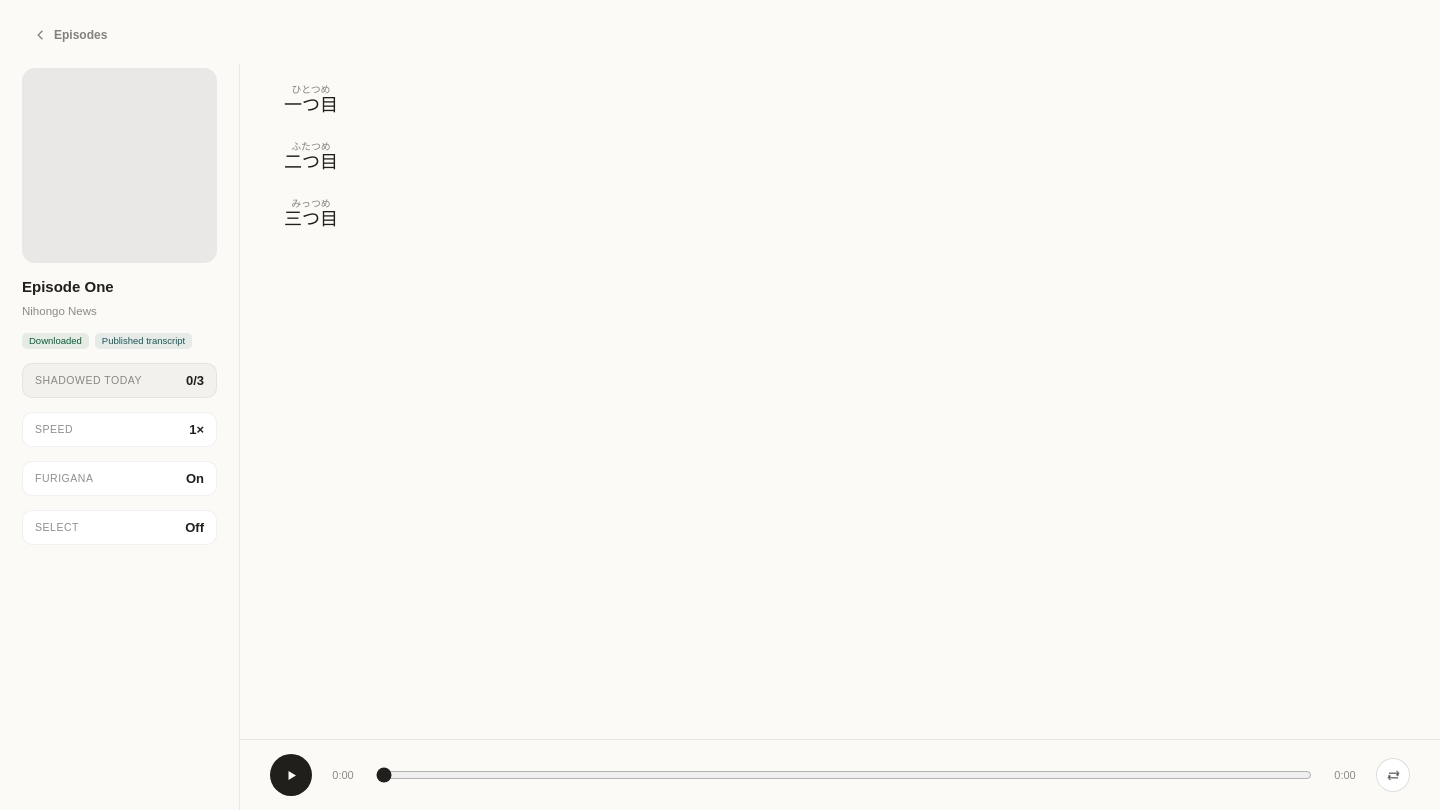
Test case: Player › dismisses the definition popover on close-button click
The width and height of the screenshot is (1440, 810).
Expected: the element with test id "sentence-0" is shown, left=284, top=84, right=338, bottom=115
What coordinates should you click on to do the following:
click the text with test id "word" showing "一つ目"
I would click on:
 (311, 105)
Its box is left=284, top=95, right=338, bottom=115.
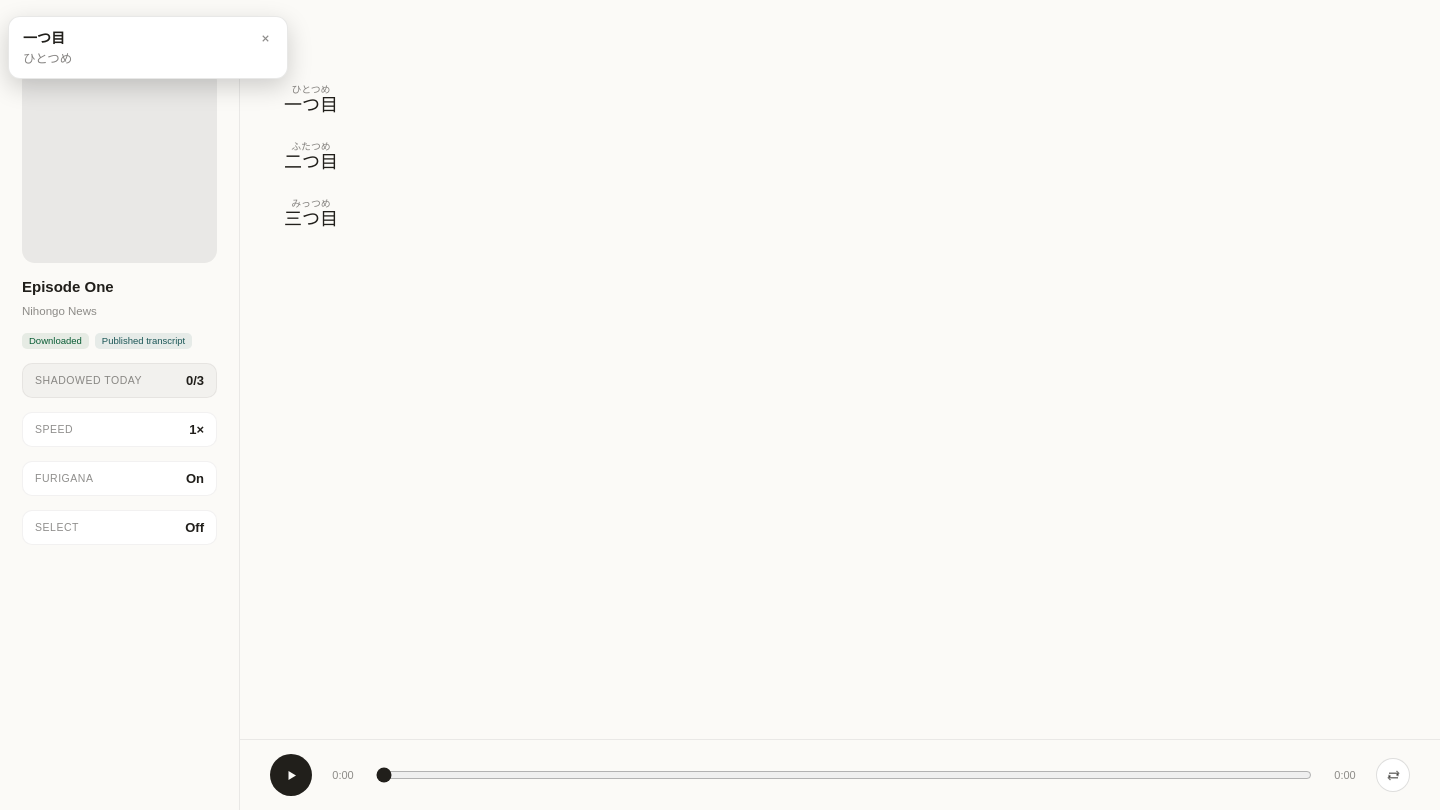
Result: the element with test id "definition-popover" is shown at left=8, top=16, right=288, bottom=79
What coordinates should you click on to do the following:
click the button with test id "definition-popover-close"
I would click on:
 (266, 38)
Its box is left=258, top=31, right=273, bottom=46.
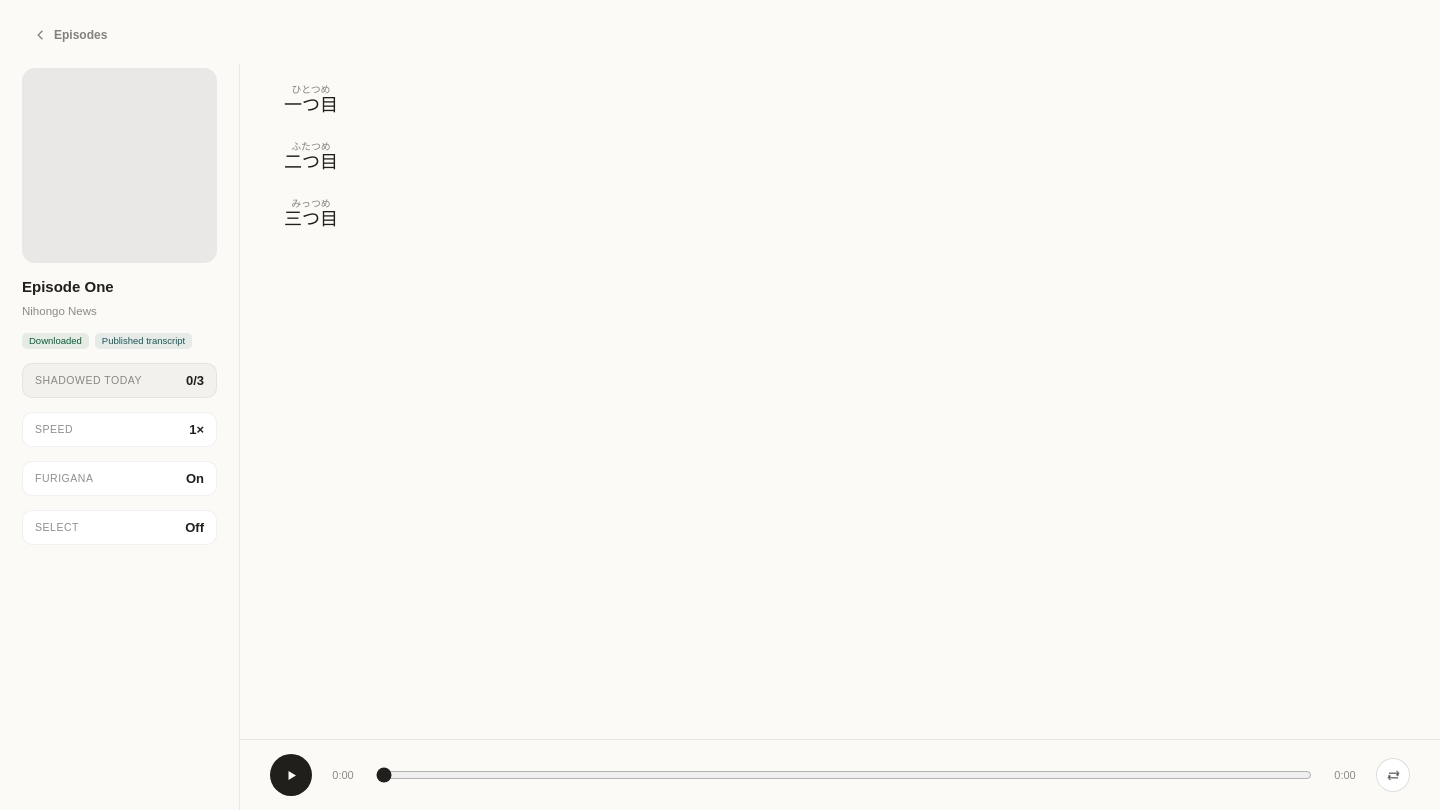
Result: the element with test id "definition-popover" is gone
